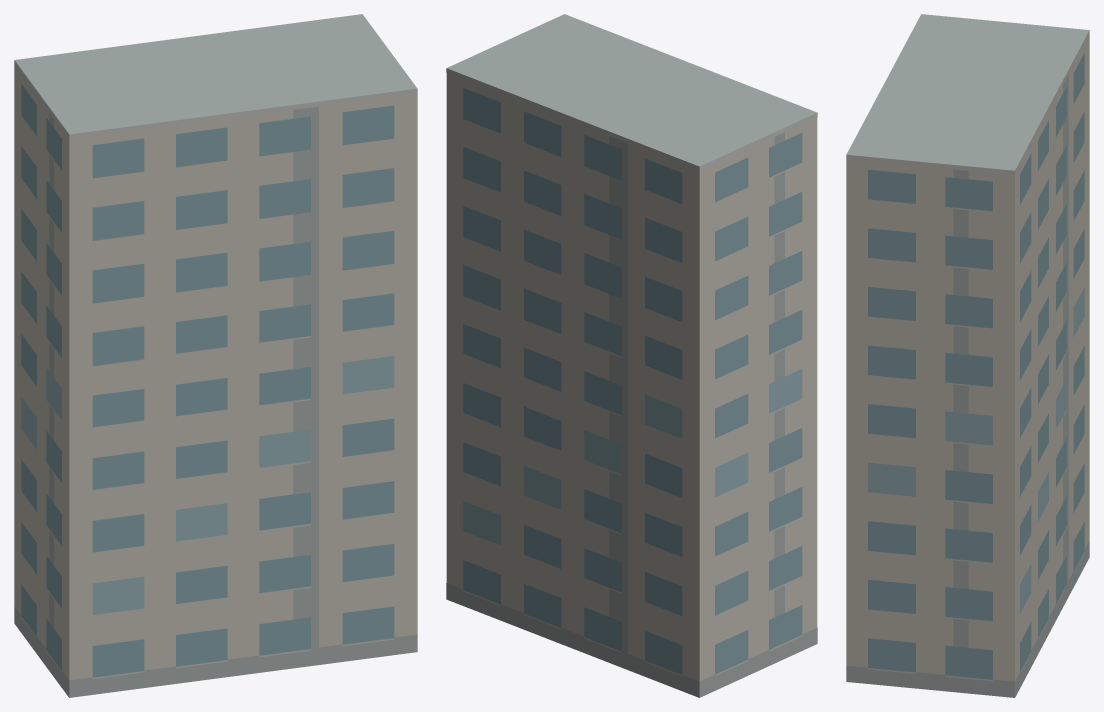
Rendered from residential-b1139c2a-6170-4bae-95e4-3292400d442f.glb.
The picture shows the model from 3 angles, left to right: view 1: azimuth 30°, elevation 25°; view 2: azimuth 150°, elevation 25°; view 3: azimuth 270°, elevation 25°; orthographic projection. The views are drawn at different scales.
Parts seen in each view (by area): view 1: residential-b1139c2a-6170-4bae-95e4-3292400d442f.tmp; view 2: residential-b1139c2a-6170-4bae-95e4-3292400d442f.tmp; view 3: residential-b1139c2a-6170-4bae-95e4-3292400d442f.tmp.
Part boxes in pixels (box(x1,y1,x2,y2)): residential-b1139c2a-6170-4bae-95e4-3292400d442f.tmp: box(14, 14, 417, 697); residential-b1139c2a-6170-4bae-95e4-3292400d442f.tmp: box(446, 14, 817, 697); residential-b1139c2a-6170-4bae-95e4-3292400d442f.tmp: box(846, 14, 1089, 697).
Size of the model in its own units: 17.87 by 28 by 11.72.
